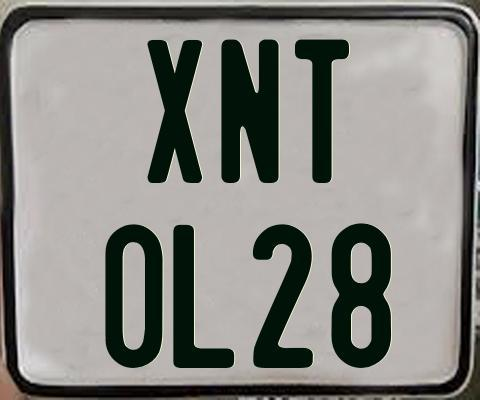0: (104, 223, 167, 367)
2: (253, 224, 316, 368)
8: (330, 222, 396, 371)
L: (171, 223, 238, 371)
N: (221, 36, 279, 186)
T: (292, 39, 352, 183)
X: (146, 40, 203, 187)
